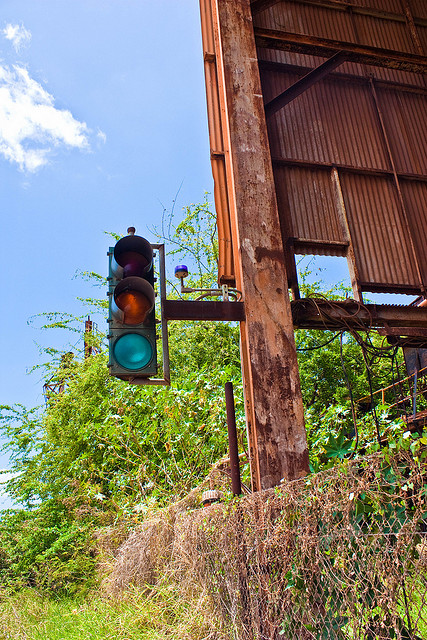Traffic light: (102, 228, 185, 386)
